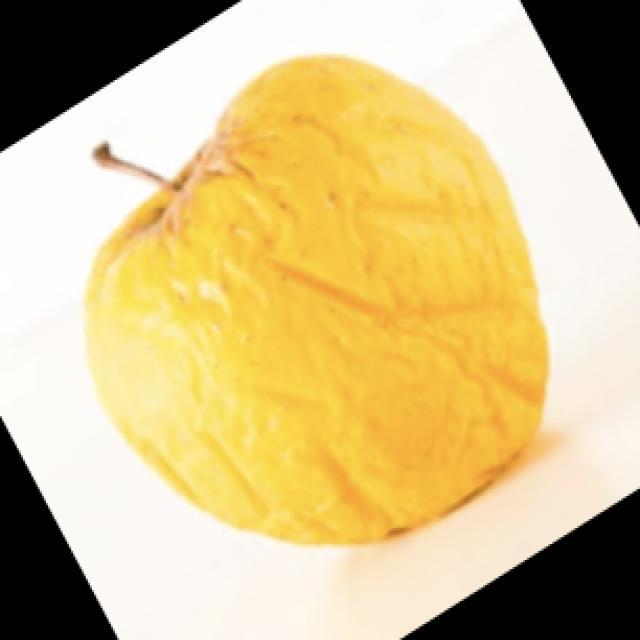Rotten: (83, 43, 540, 550)
